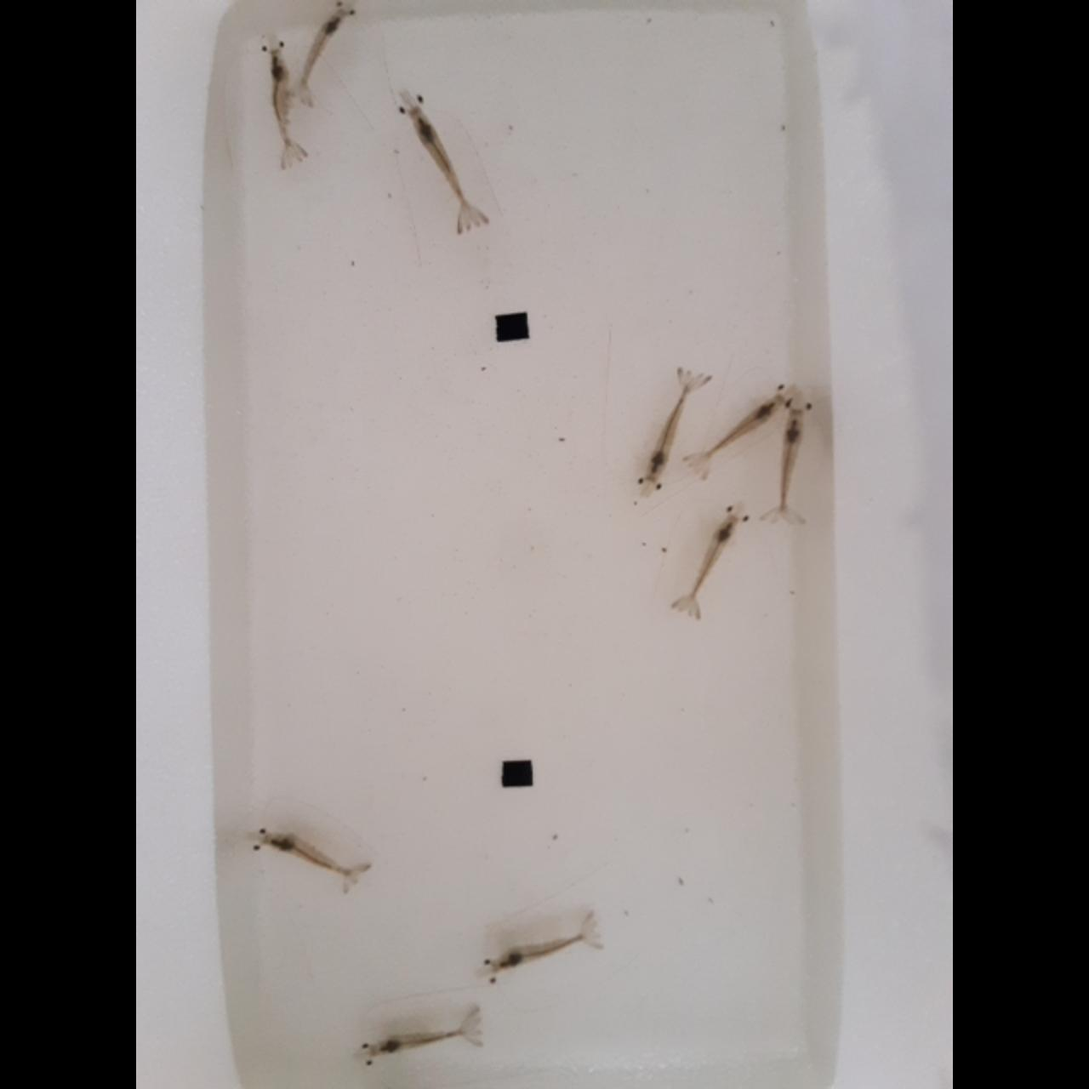box: (502, 761, 533, 786), (497, 315, 529, 339)
side_shrimp: (269, 835, 364, 876), (299, 12, 345, 90), (269, 54, 293, 153)
top_shrimp: (410, 111, 471, 216), (708, 398, 779, 454), (687, 519, 733, 602), (650, 383, 691, 475), (267, 837, 362, 876), (497, 932, 584, 966), (376, 1029, 463, 1052), (781, 410, 801, 509)
